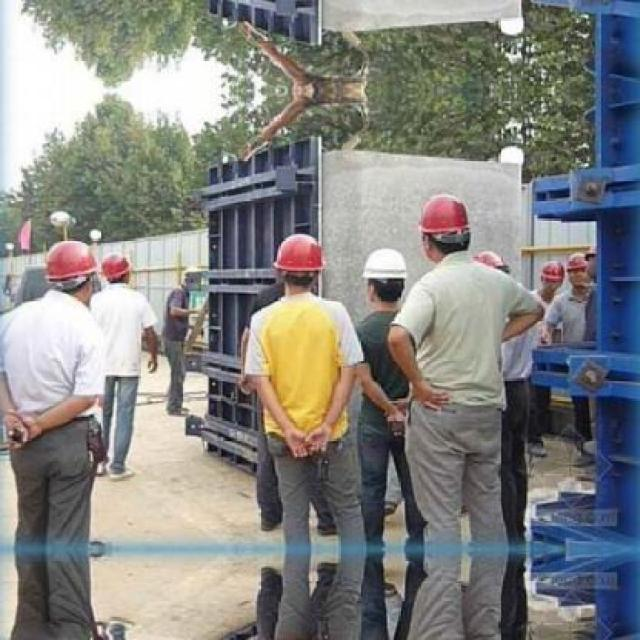helmet: (412, 184, 477, 265), (267, 225, 330, 301), (40, 234, 102, 301), (364, 240, 408, 306), (96, 248, 132, 288), (540, 257, 566, 294), (565, 251, 589, 291)
